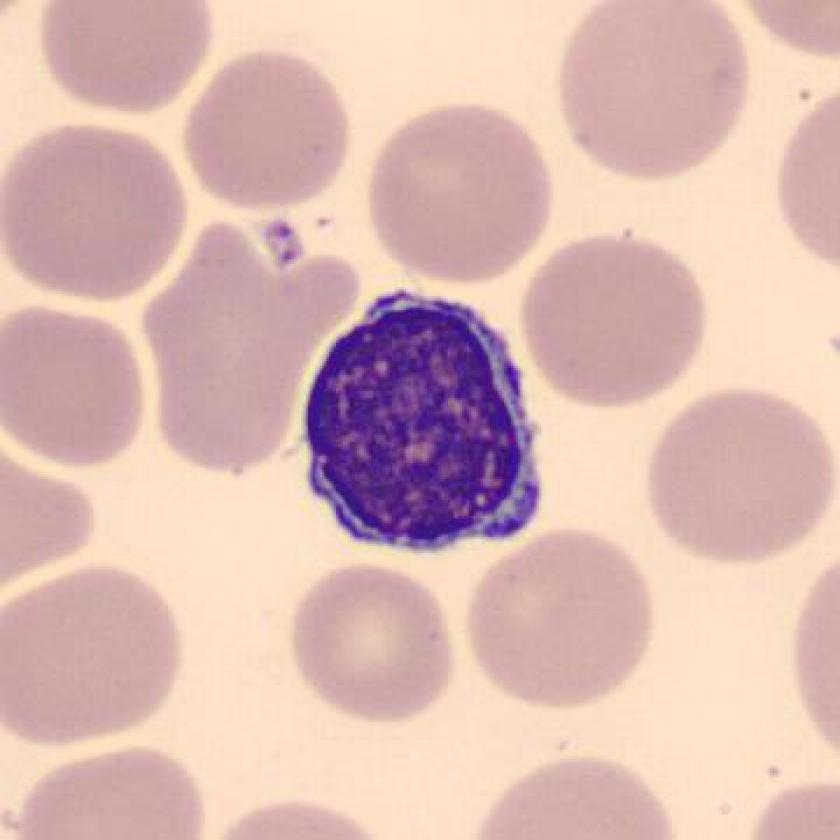lymphocyte: (290, 272, 552, 575)
